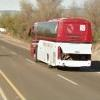Bus: (28, 17, 93, 71)
